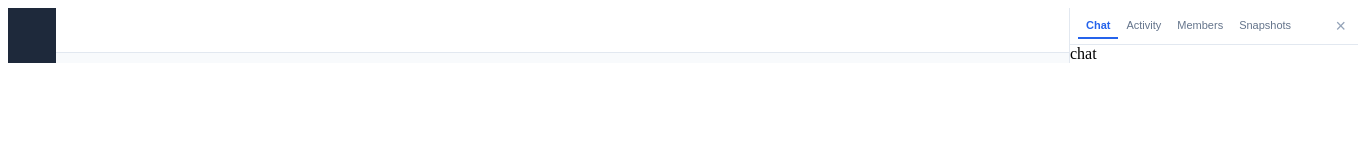
Test case: WorkspaceLayout › switches to the activity panel when the activity tab is clicked
Click the button with class "workspace-layout__panel-tab" showing "activity" at coordinates (1144, 26), box x1=1118 y1=13 x2=1169 y2=39
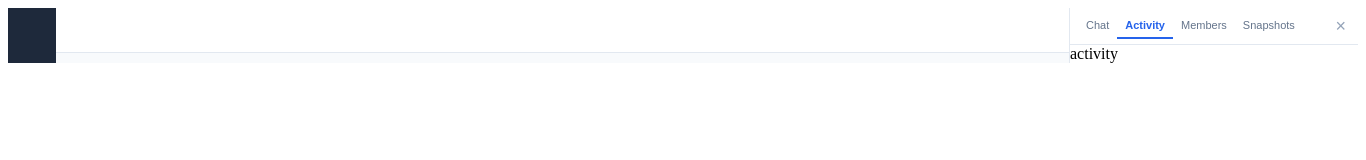
Expected: the text "activity" is shown, x1=1070 y1=45 x2=1118 y2=62
